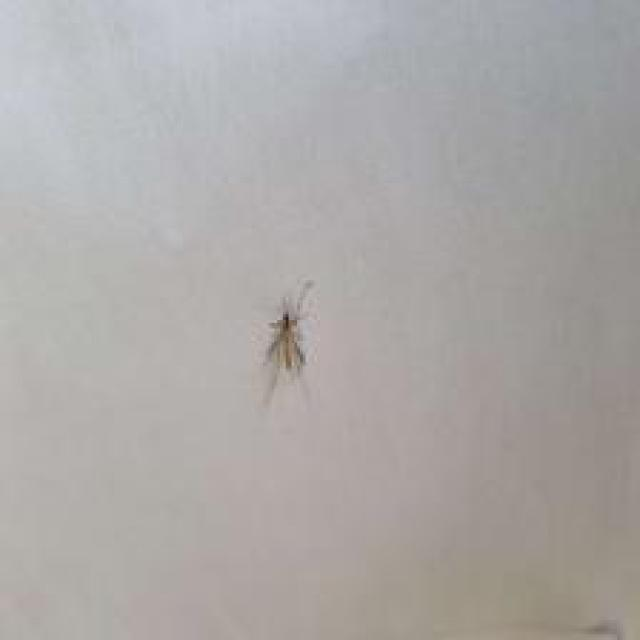Culex: (258, 279, 316, 410)
